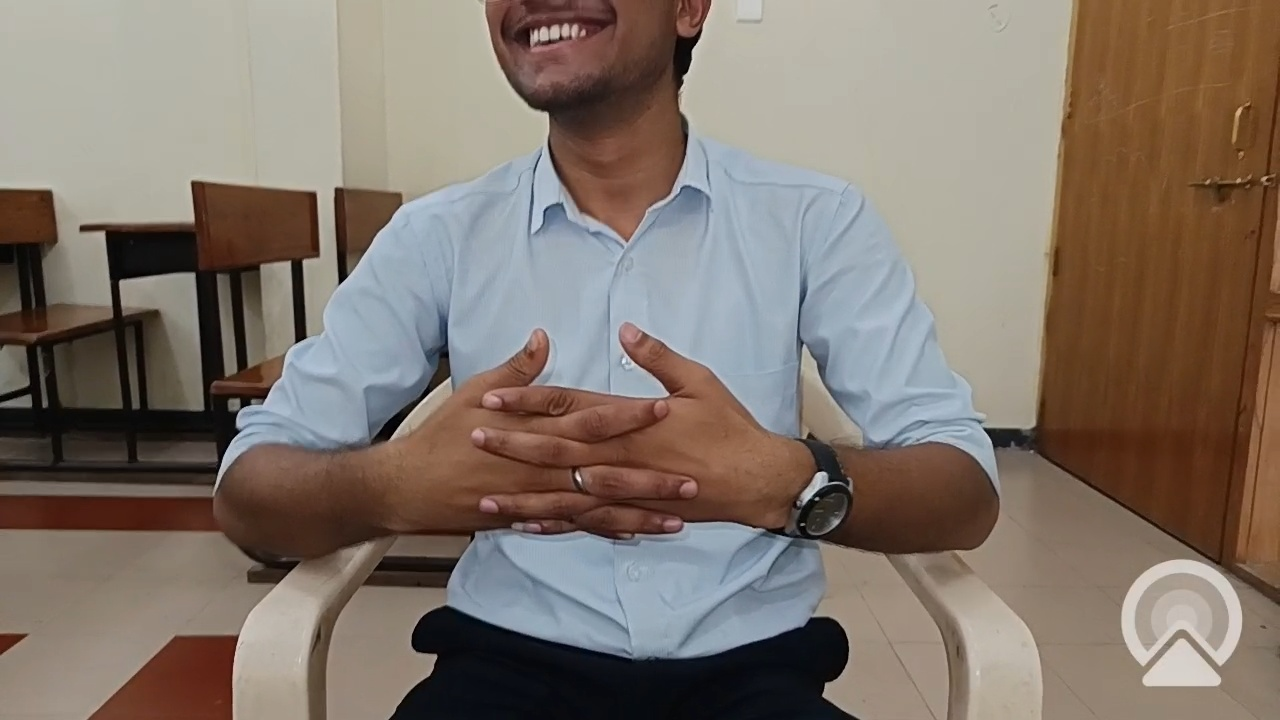W: (356, 298, 824, 631)
